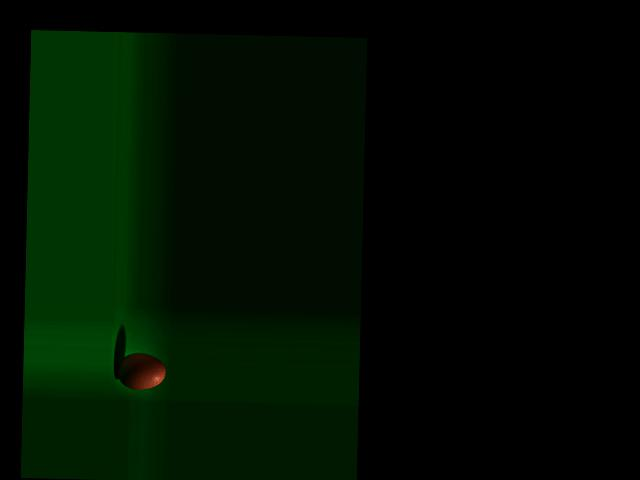egg: (116, 352, 165, 390)
